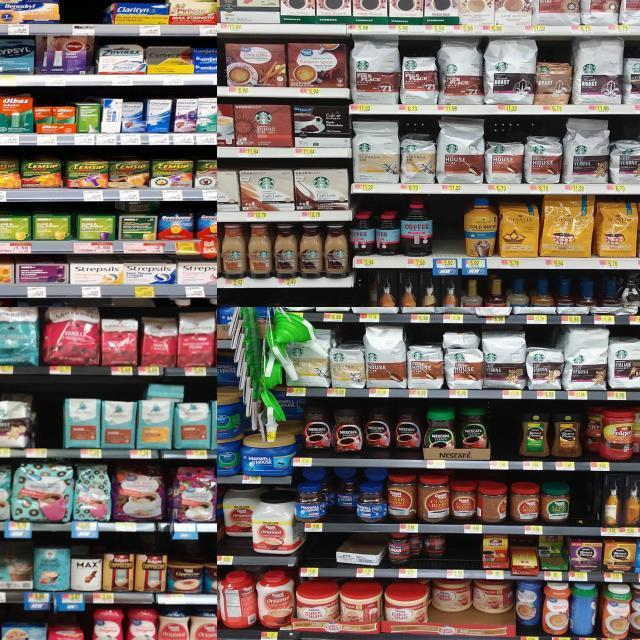empty: (434, 199, 462, 269), (38, 388, 62, 458), (492, 409, 518, 469), (446, 535, 481, 579), (61, 0, 103, 34), (571, 477, 594, 535), (306, 534, 335, 576)
